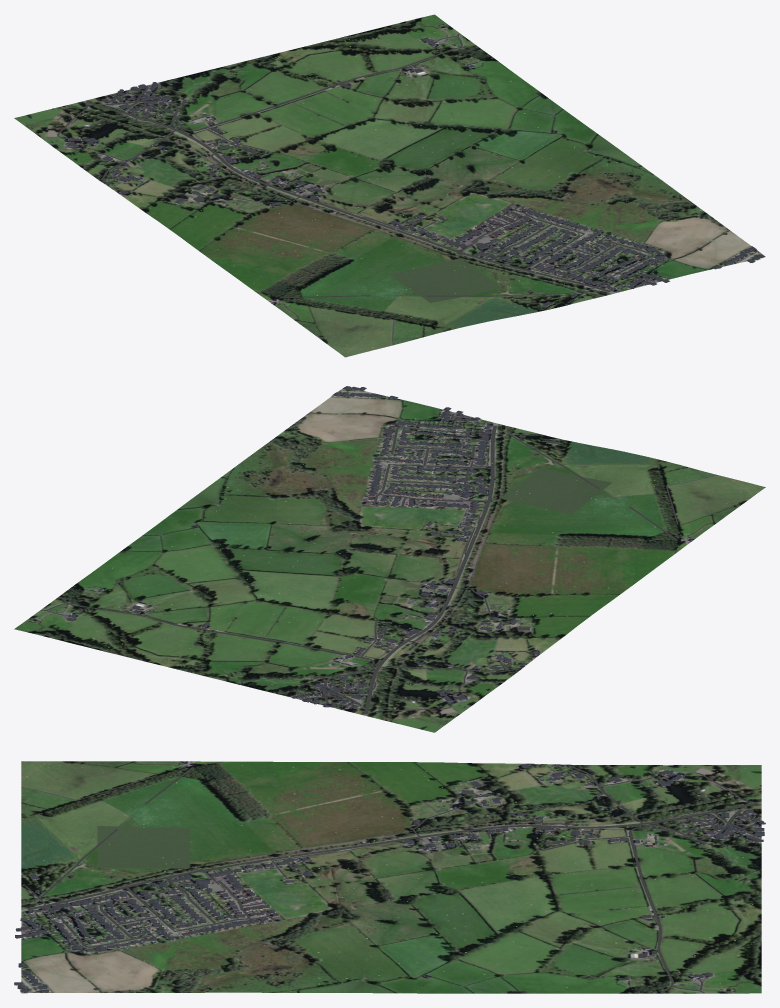
Rendered from howey-terrain-v3.glb.
The picture shows the model from 3 angles, top to bottom: view 1: azimuth 30°, elevation 25°; view 2: azimuth 150°, elevation 25°; view 3: azimuth 270°, elevation 25°; orthographic projection. The views are drawn at different scales.
Parts seen in each view (by area): view 1: Terrain_3D, Roofs, Roads, Buildings_OSM; view 2: Terrain_3D, Roofs, Roads, Buildings_OSM; view 3: Terrain_3D, Roofs, Roads, Buildings_OSM, Trees.
Part boxes in pixels (x1,y1,x2,y2): Terrain_3D: (14, 14, 765, 357); Roofs: (70, 37, 764, 297); Roads: (57, 25, 654, 319); Buildings_OSM: (65, 40, 762, 306); Terrain_3D: (14, 387, 765, 732); Roofs: (66, 386, 539, 708); Roads: (30, 413, 684, 714); Buildings_OSM: (67, 389, 557, 708); Terrain_3D: (21, 761, 761, 993); Roofs: (14, 764, 765, 992); Roads: (22, 765, 758, 992); Buildings_OSM: (14, 766, 765, 992); Trees: (26, 762, 752, 989).
Size of the model in its own units: 1101 by 150 by 1523.
Materials: 10 (5 with a texture image).
